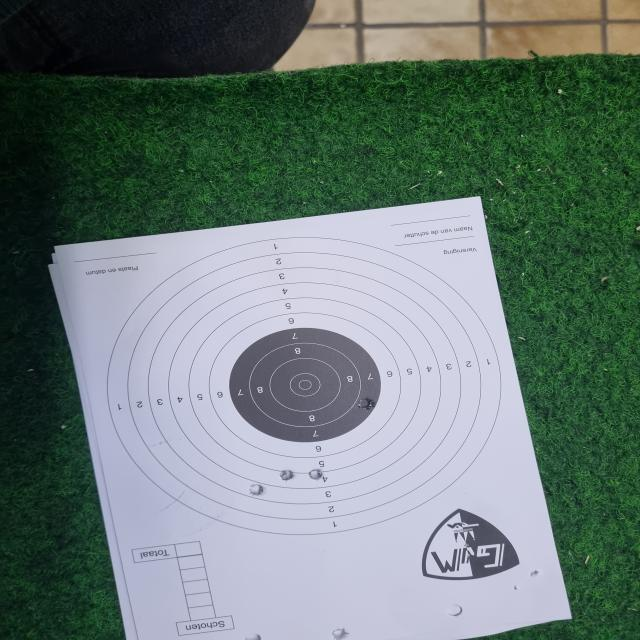4: (249, 484, 264, 496)
6: (308, 469, 322, 482), (280, 470, 294, 482)
8: (358, 399, 375, 410)
Black Contour: (230, 328, 382, 442)
Target: (102, 237, 503, 535)
hole: (331, 628, 349, 640)
